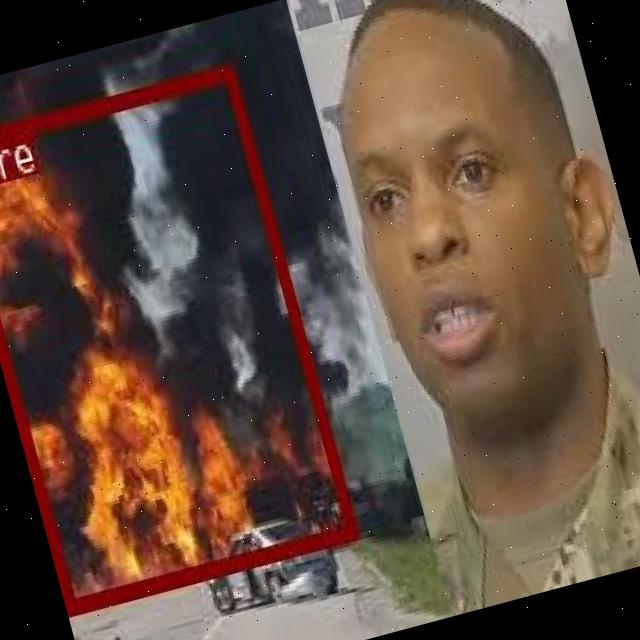fire: (0, 60, 357, 614)
